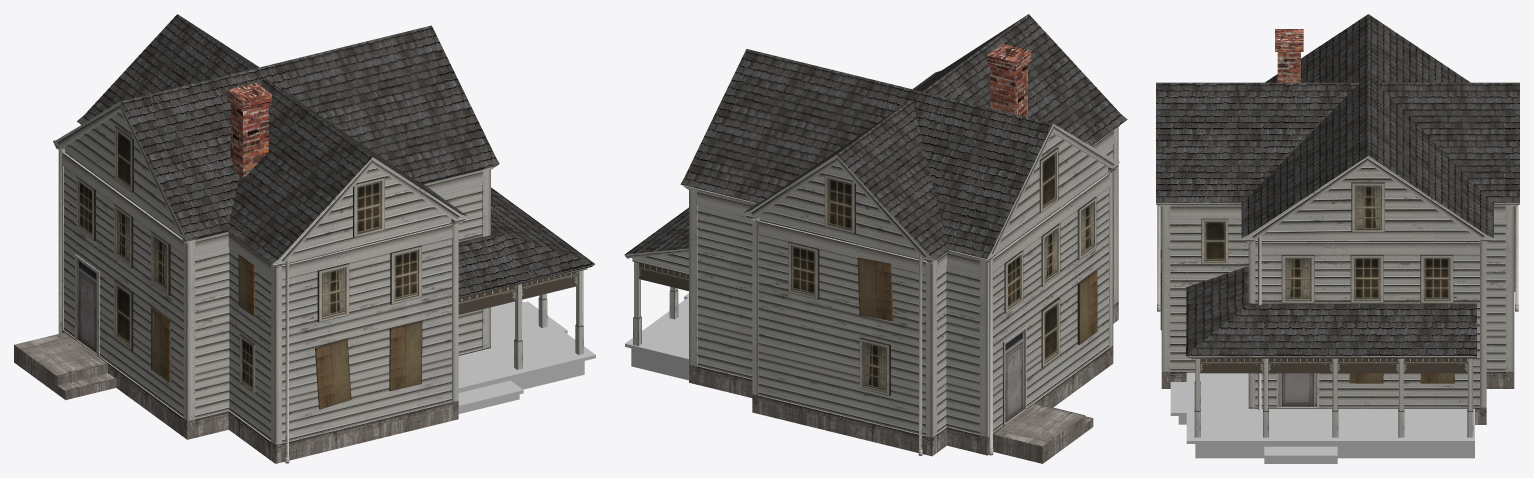
The model's file is BLDG_House_C.fbx.
3 renders of one model, left to right at view 1: azimuth 30°, elevation 25°; view 2: azimuth 150°, elevation 25°; view 3: azimuth 270°, elevation 25°, orthographic. The views are drawn at different scales.
Parts seen in each view (by area): view 1: BLDG_House_C; view 2: BLDG_House_C; view 3: BLDG_House_C.
Boxes of the visible parts, x1,y1,x2,y2 form: BLDG_House_C: [14, 14, 595, 463]; BLDG_House_C: [624, 14, 1127, 463]; BLDG_House_C: [1156, 14, 1519, 463].
Bounding box in the file's own units: 2873 × 1969 × 2213.
